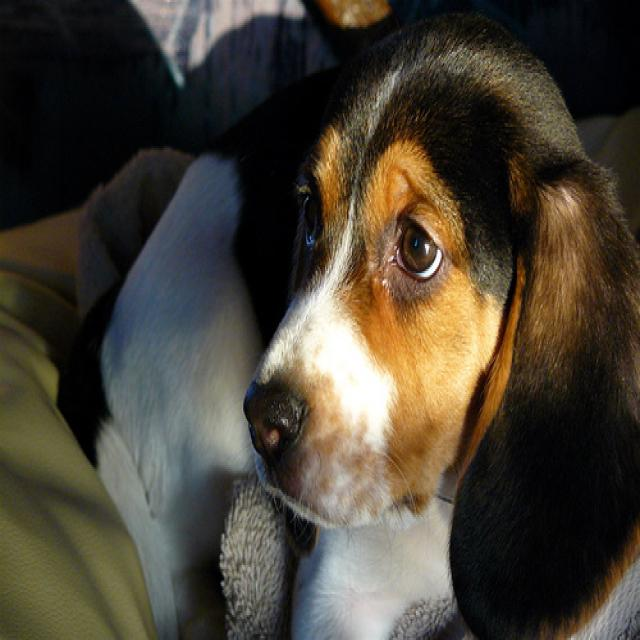dog-beagle: (55, 2, 637, 636)
